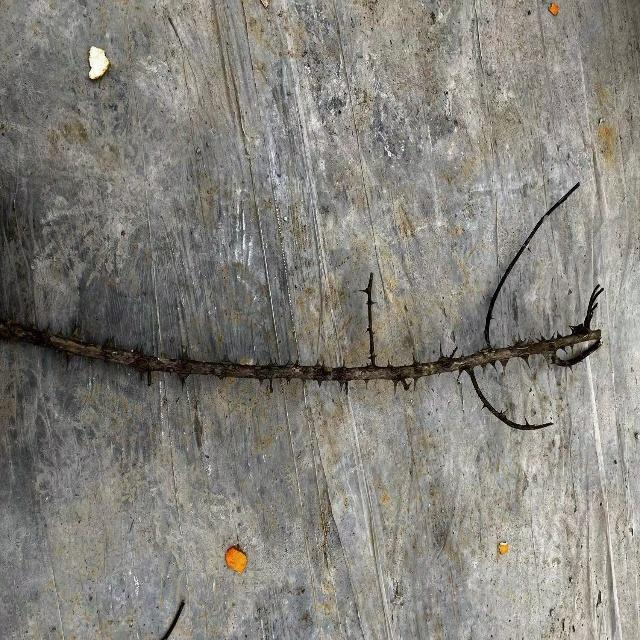branch: (0, 322, 603, 384)
